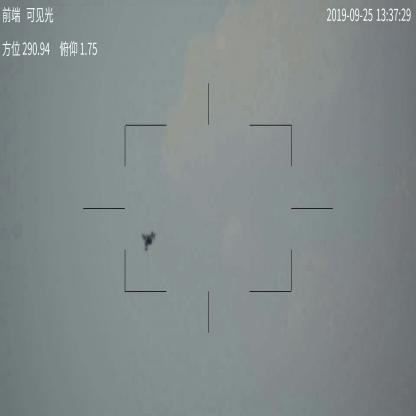uav: (143, 230, 160, 253)
